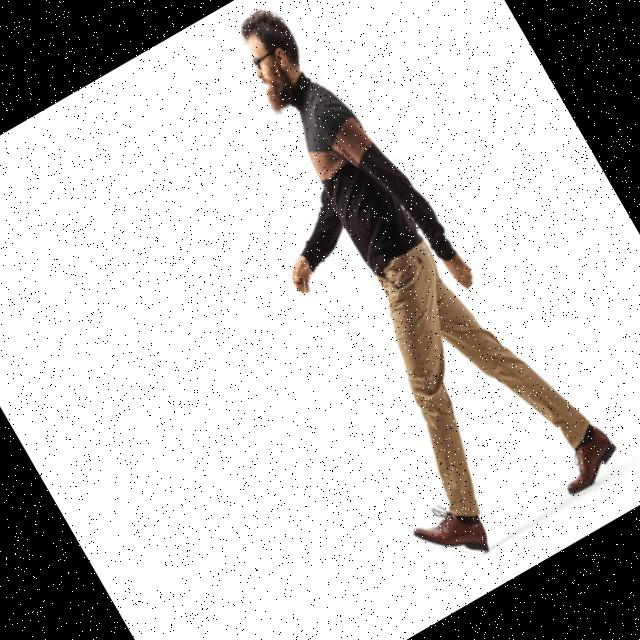Person: (148, 0, 628, 578)
